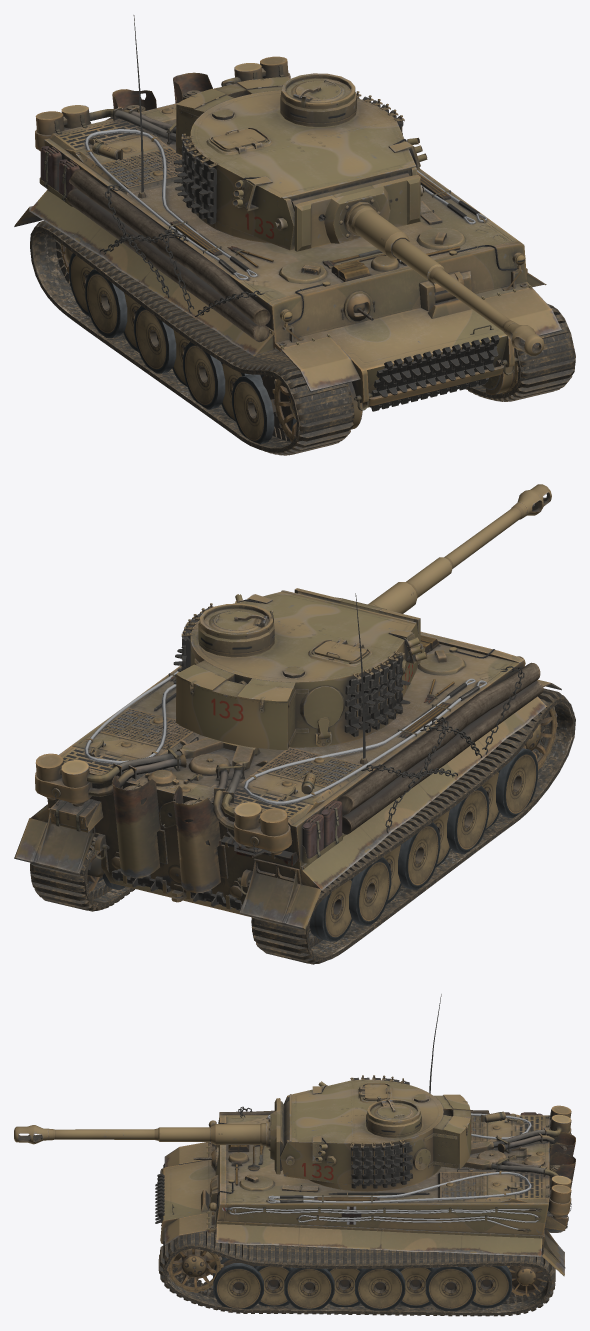
3 renders of one model, top to bottom at view 1: azimuth 30°, elevation 25°; view 2: azimuth 150°, elevation 25°; view 3: azimuth 270°, elevation 25°, orthographic. The views are drawn at different scales.
Parts seen in each view (by area): view 1: tiger_hull, tiger_turret; view 2: tiger_hull, tiger_turret; view 3: tiger_hull, tiger_turret.
Boxes of the visible parts, x1,y1,x2,y2 form: tiger_hull: (14, 15, 575, 455); tiger_turret: (173, 73, 544, 356); tiger_hull: (14, 593, 575, 964); tiger_turret: (173, 484, 551, 749); tiger_hull: (155, 994, 575, 1316); tiger_turret: (14, 1075, 471, 1191).
Bounding box in the file's own units: 3.72 × 3.94 × 8.43.
3 materials, 3 textured.
